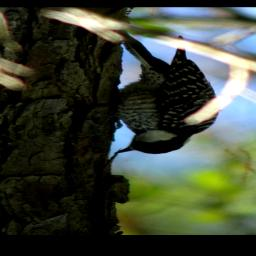Woodpecker: (110, 31, 221, 155)
